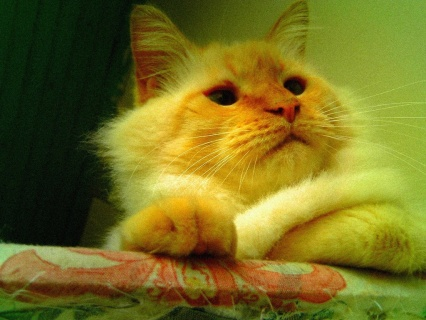Cat: (77, 0, 426, 276)
